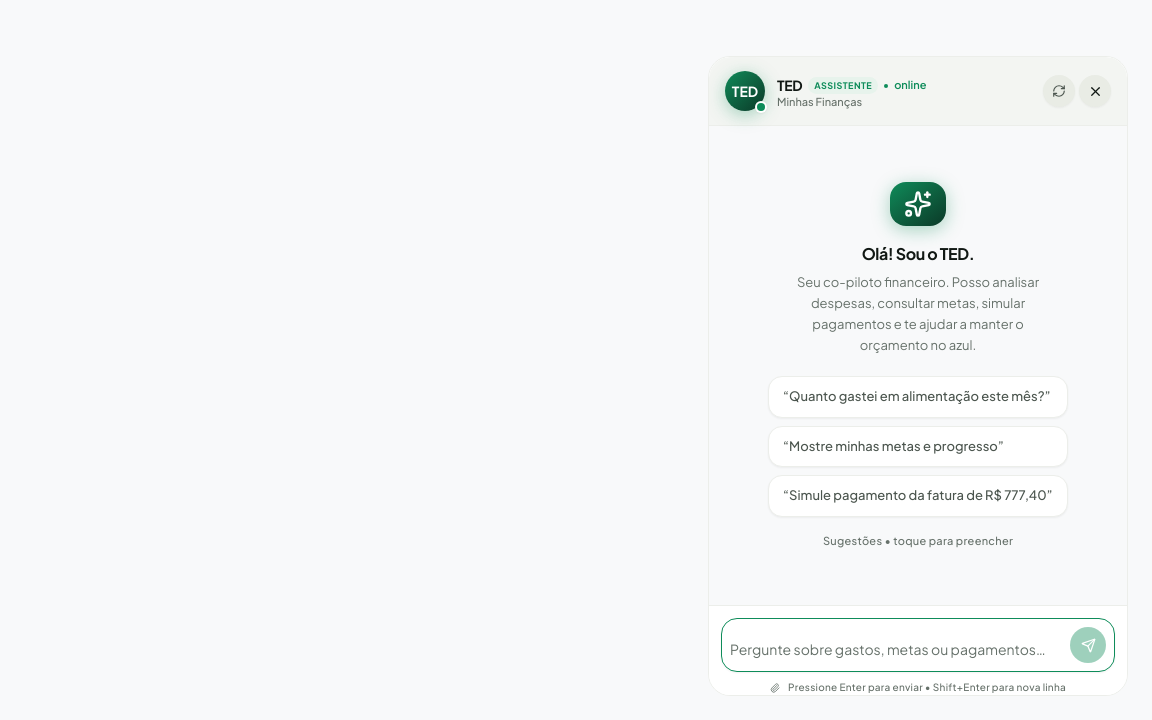
Test: TedChat undo proposal card (debt-undo-confirmation-ui) › renders the undo card from the structured turn field and never from model text
This screenshot has width=1152, height=720.
Step 1. Type "desfaz o último" into the text box with placeholder "Pergunte sobre gastos, metas ou pagamentos…" → point(897, 649), box x1=730 y1=635 x2=1064 y2=663
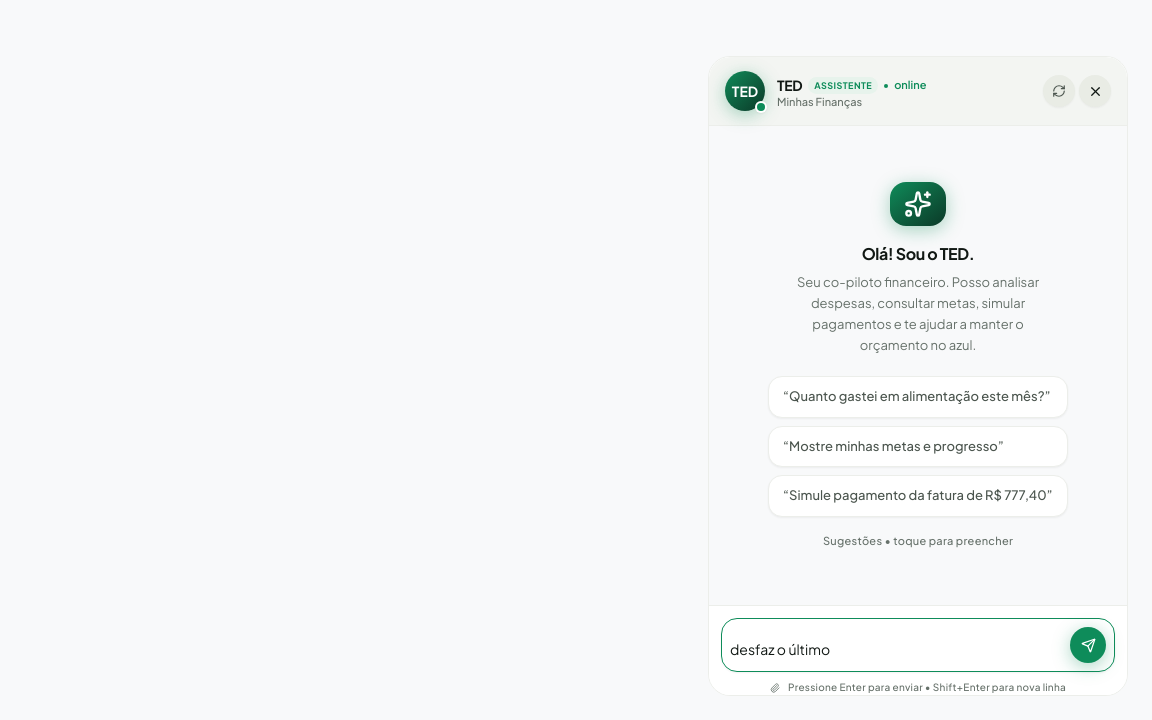
Step 2. Click the button named "enviar mensagem" → point(1088, 645), box x1=1070 y1=627 x2=1106 y2=663
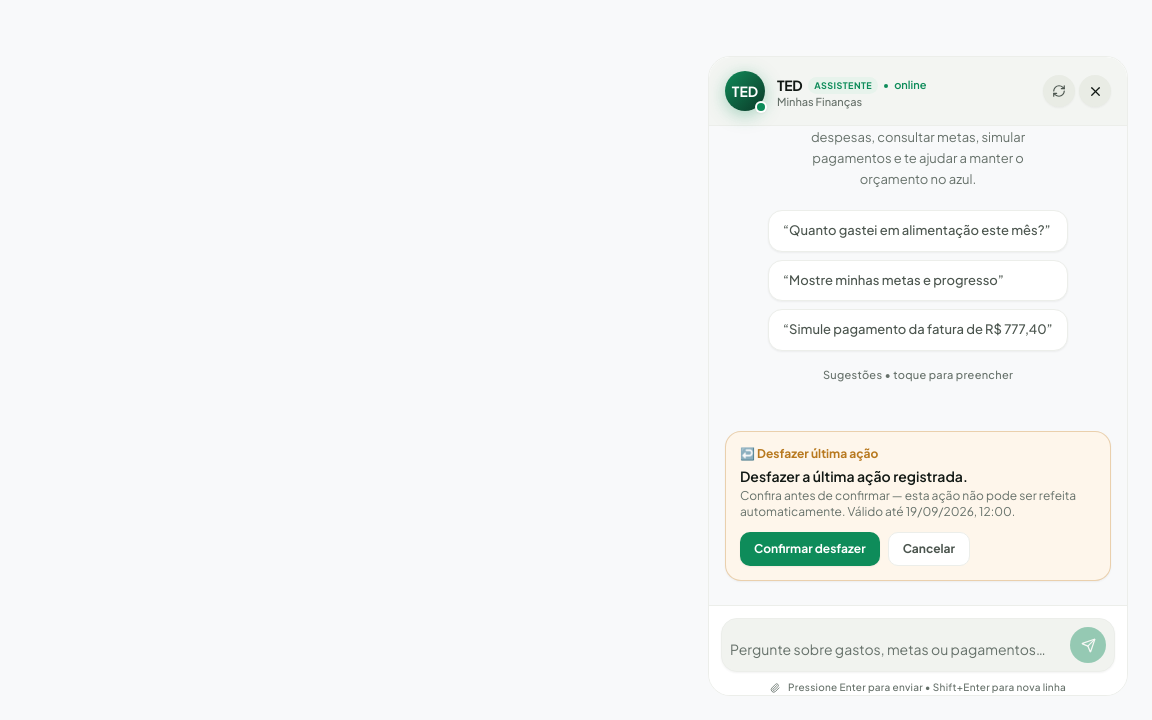
Expected: the element with test id "ted-undo-card" is shown, x1=725 y1=431 x2=1111 y2=581
